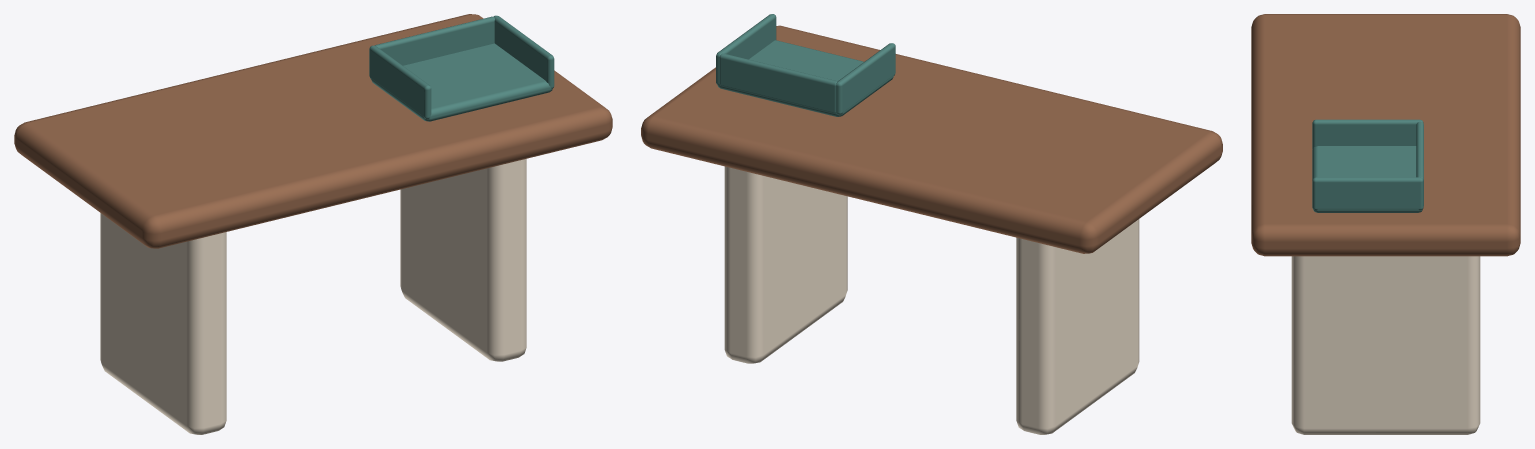
Rendered from kit_approval_desk_v1.glb.
3 views of the same model, side by side, from view 1: azimuth 30°, elevation 25°; view 2: azimuth 150°, elevation 25°; view 3: azimuth 270°, elevation 25° (orthographic). The views are drawn at different scales.
Visible parts, largest first — view 1: body; view 2: body; view 3: body.
Boxes of the visible parts, x1,y1,x2,y2 form: body: (14,14,612,434); body: (641,14,1222,434); body: (1251,14,1520,434).
Size of the model in its own units: 1.45 by 0.85 by 0.75.
